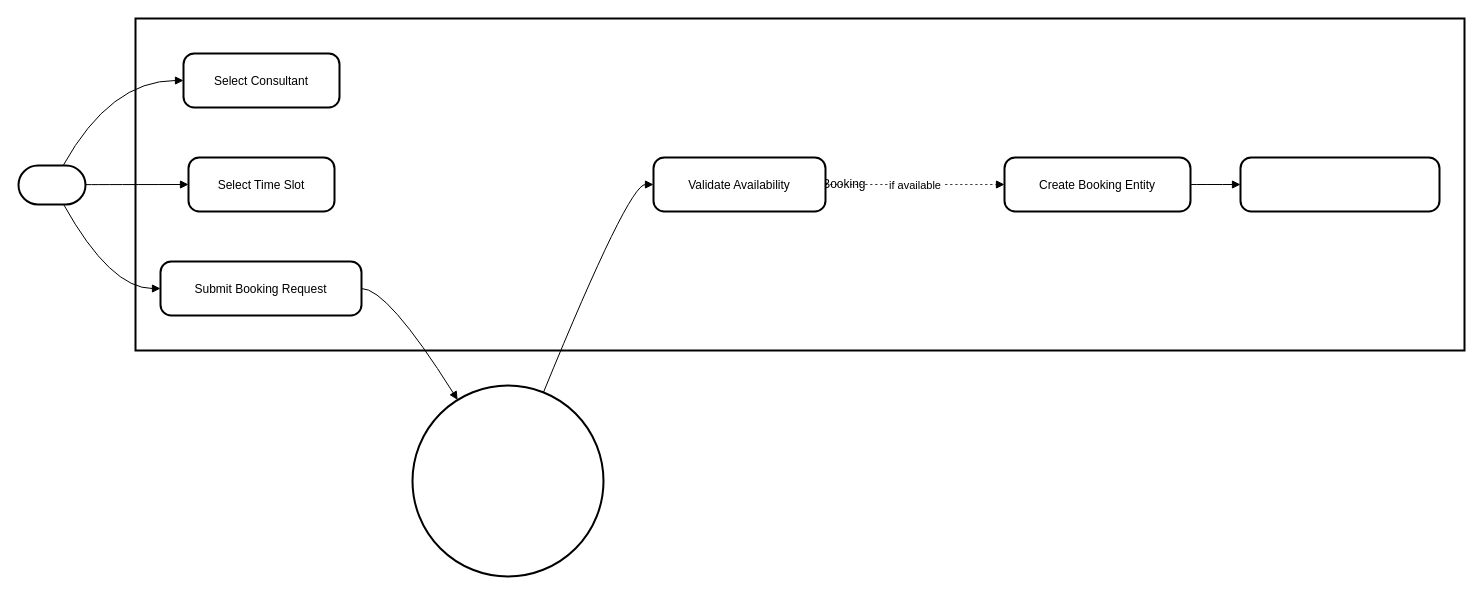
The diagram is 1482 pixels wide and 594 high, and some of its shapes have lost their labels. Here are the shapes that lost their labels. From the top down, the centre of each, then its label:
At pixel 51 184: "Client".
At pixel 1339 184: "Set State to 'Requested'".
At pixel 507 480: "System / BookingService".
